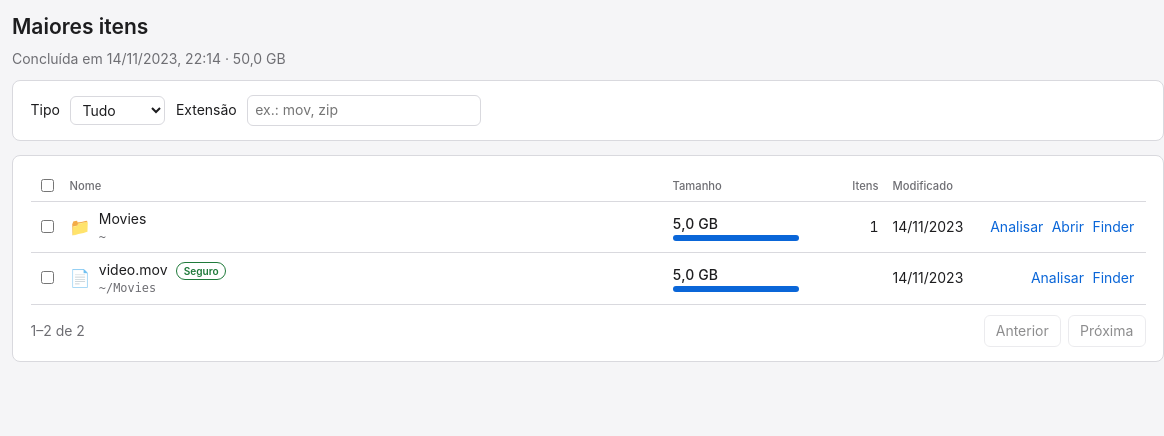
Test: FilesView batch analysis › analyses the selected items in one request and clears the selection
Click the checkbox with test id "select-page". click: (47, 185)
box: [40, 178, 54, 192]
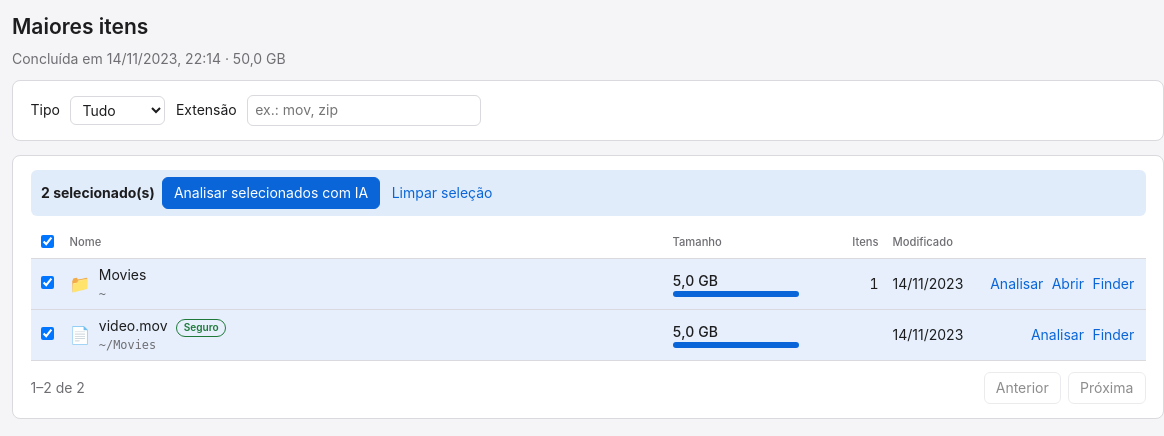
Expected: the element with test id "selection-bar" shows "2 selecionado(s)", [41, 184, 155, 201]
Click the button with test id "analyze-selected". click: (271, 193)
box: [162, 177, 380, 209]
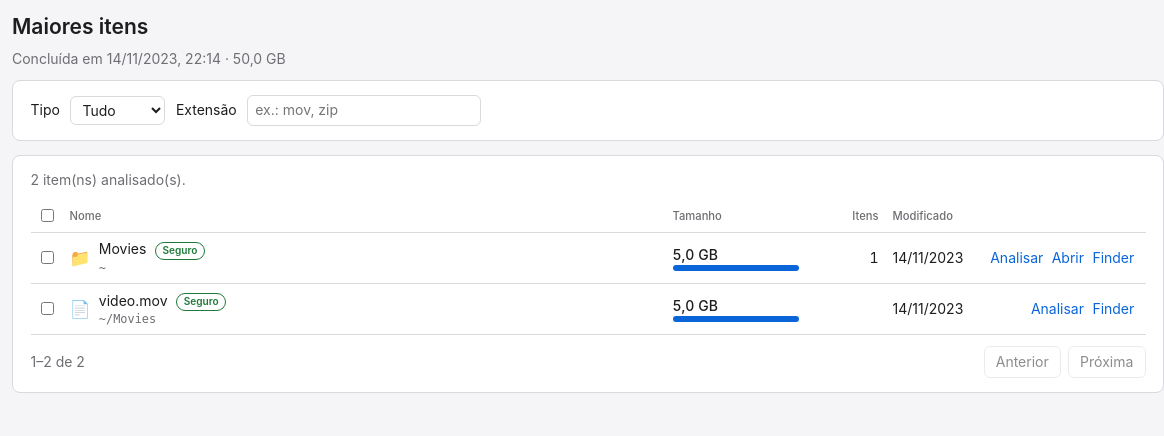
Expected: the text with test id "batch-result" reads "2 item(ns) analisado(s).", [30, 171, 186, 188]
Expected: the 1st text "Seguro" is shown, [155, 242, 205, 260]
